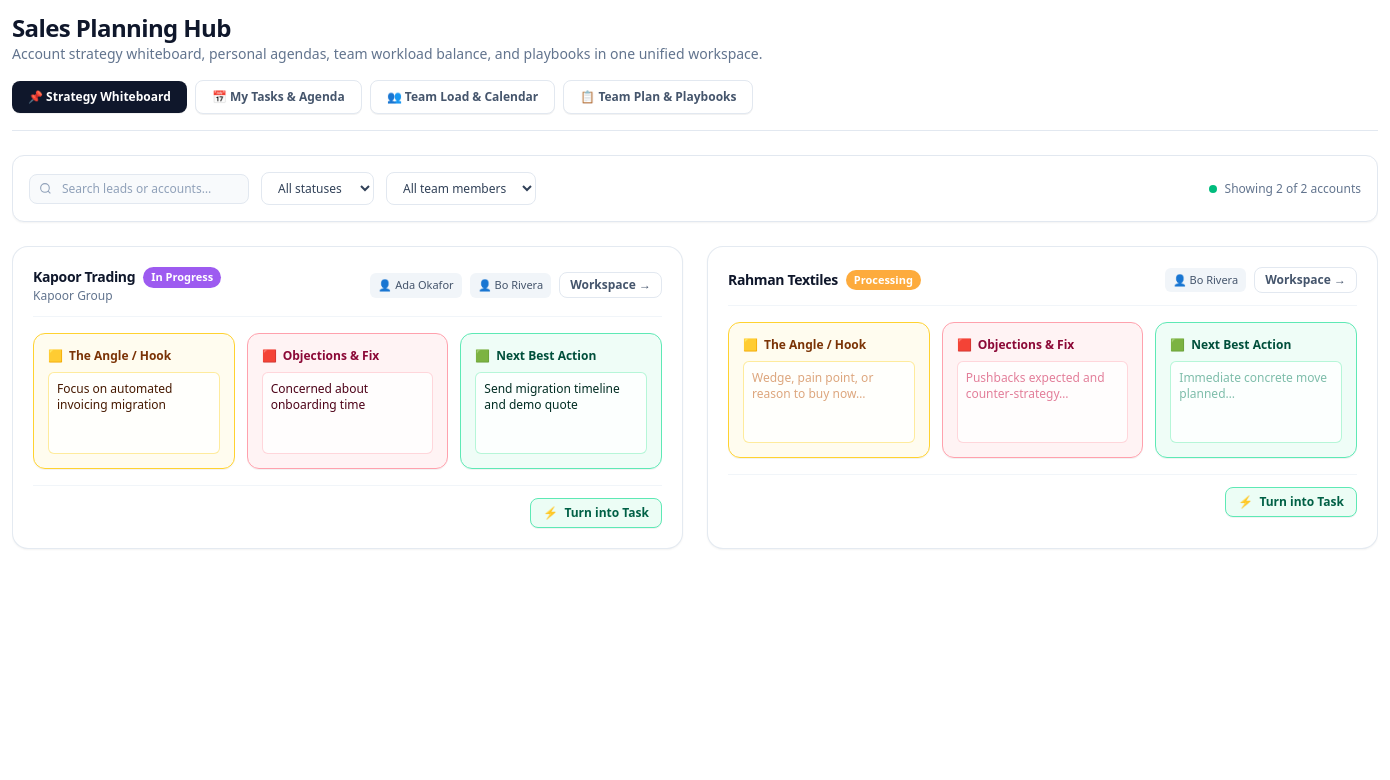
it: TeamPlanningPage › switches to coordination and lists each rep’s workload, idle teammates included
The width and height of the screenshot is (1390, 780).
Step 1. Click the tab "👥 Team Load & Calendar" → (462, 97), box top-left (370, 80), bottom-right (555, 114)
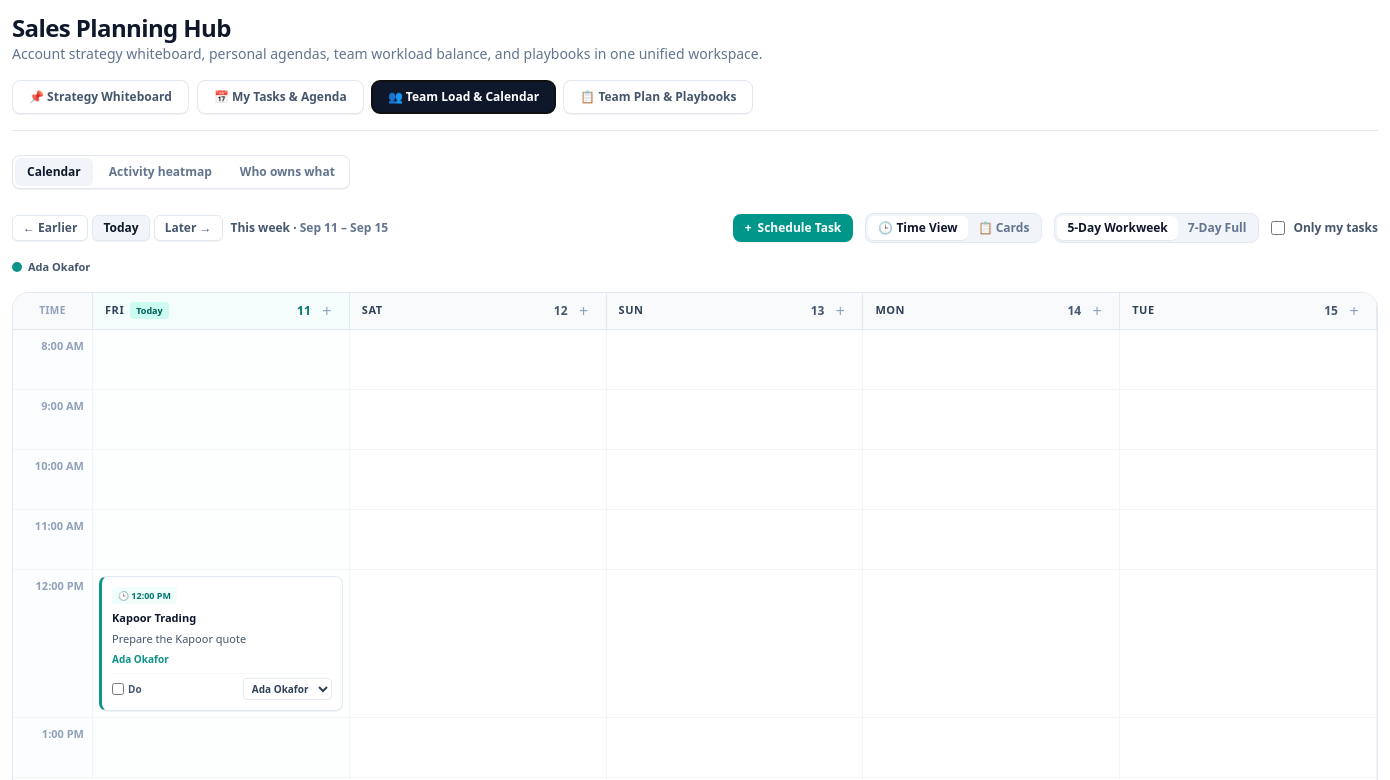
Step 2. Click the tab "Who owns what" → (287, 172), box top-left (228, 158), bottom-right (347, 186)
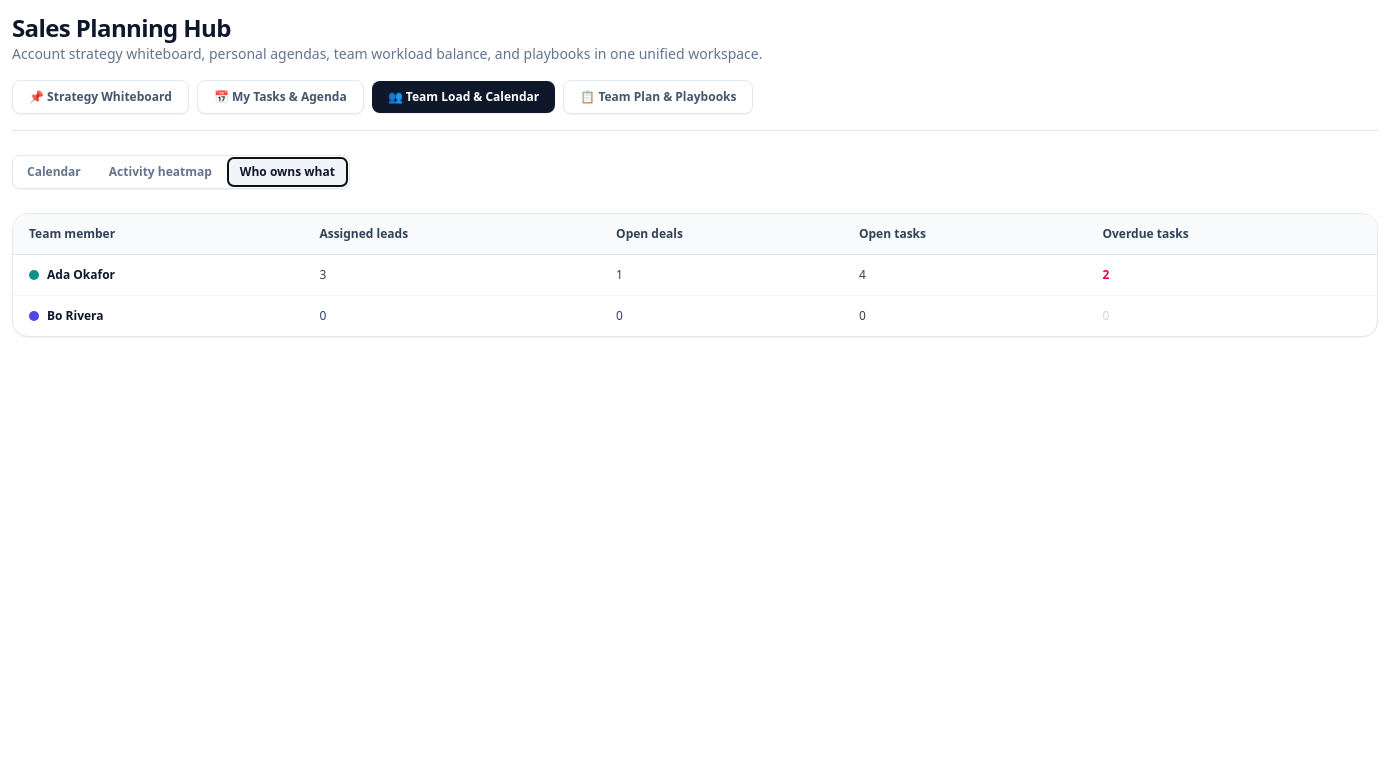
Now the text "Ada Okafor" shows "3", box top-left (319, 266), bottom-right (326, 283)
Now the text "Ada Okafor" shows "2", box top-left (1102, 266), bottom-right (1109, 283)
Now the text "Bo Rivera" is shown, box top-left (47, 308), bottom-right (104, 324)
